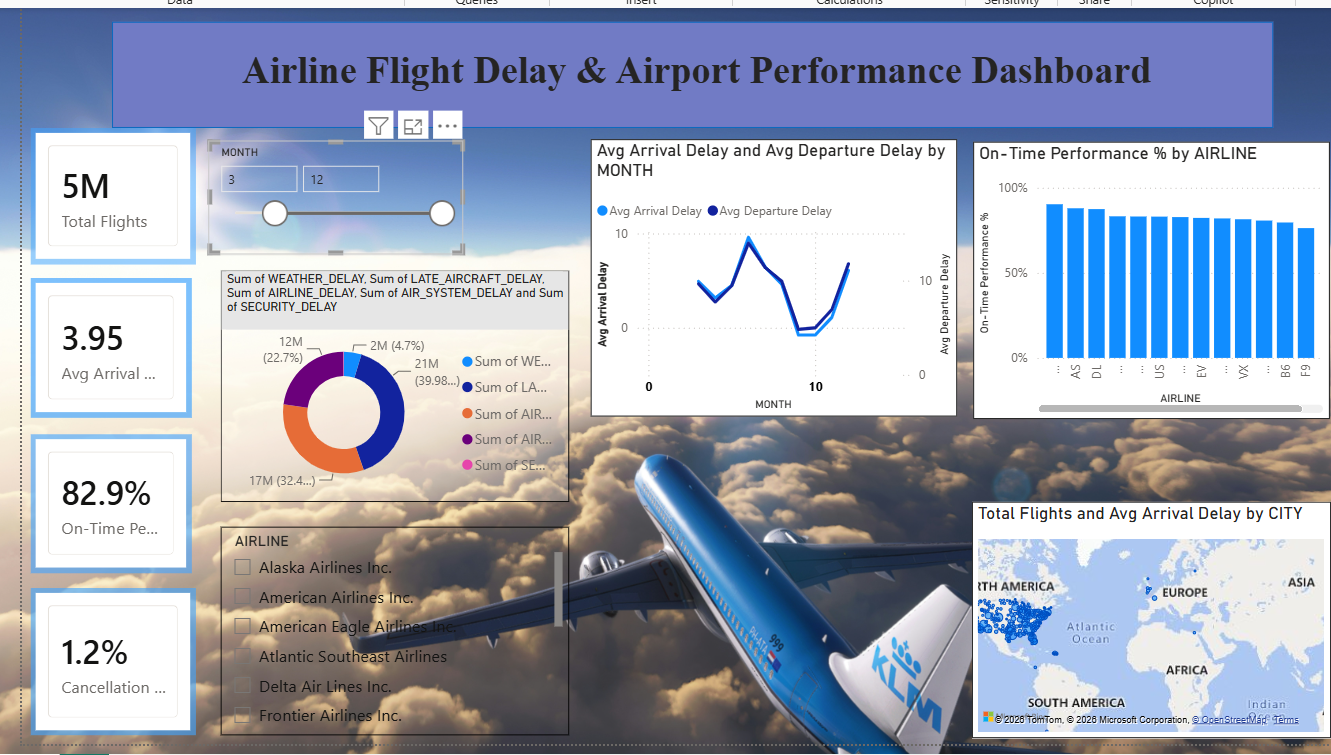

This screenshot's page, from the dashboard's own definition file:
{"tool":"powerbi","page":{"name":"Page 1","canvas":[1280,720],"ordinal":0},"visuals":[{"type":"cardVisual","fields":{"Data":["flights.Total Flights"]},"box":[8.6,117.4,161.4,133.3],"z":0},{"type":"cardVisual","fields":{"Data":["flights.On-Time Performance %"]},"box":[8.6,417,157.7,135.7],"z":1000},{"type":"cardVisual","fields":{"Data":["flights.Avg Arrival Delay"]},"box":[8.6,264.1,157.7,137],"z":2000},{"type":"cardVisual","fields":{"Data":["flights.Cancellation Rate %"]},"box":[8.6,567.4,161.4,144.3],"z":3000},{"type":"columnChart","fields":{"Category":["flights.AIRLINE"],"Y":["flights.On-Time Performance %"]},"box":[930.4,130.4,348.5,271.5],"z":4000},{"type":"map","fields":{"Category":["airports.CITY"],"Size":["flights.Total Flights"]},"box":[929.1,483.5,351,231.1],"z":5000},{"type":"shape","box":[88,13.5,1136,103.9],"z":6000},{"type":"textbox","box":[210.3,34.2,968.5,72.1],"z":7000},{"type":"slicer","fields":{"Values":["airlines.AIRLINE"]},"box":[194.9,507.6,340.5,203.8],"z":8000},{"type":"slicer","fields":{"Values":["flights.MONTH"]},"box":[182.2,129.6,249.5,111.3],"z":9000},{"type":"lineChart","fields":{"Y":["flights.Avg Arrival Delay"],"Y2":["flights.Avg Departure Delay"],"Category":["flights.MONTH"]},"box":[557,127.8,358.3,271.5],"z":10000},{"type":"donutChart","fields":{"Y":["Sum(flights.WEATHER_DELAY)","Sum(flights.LATE_AIRCRAFT_DELAY)","Sum(flights.AIRLINE_DELAY)","Sum(flights.AIR_SYSTEM_DELAY)","Sum(flights.SECURITY_DELAY)"]},"box":[194.9,257,340.5,226.6],"z":11000}]}

Visuals, with their boxes on the page's 1280x720 design canvas (x1, y1, x2, y2). These are canvas units, not pixel positions in the 1331x755 screenshot, which may show the page scaled, cropped or inside an application window:
cardVisual - flights.Total Flights: {"left": 9, "top": 117, "right": 170, "bottom": 251}
cardVisual - flights.On-Time Performance %: {"left": 9, "top": 417, "right": 166, "bottom": 553}
cardVisual - flights.Avg Arrival Delay: {"left": 9, "top": 264, "right": 166, "bottom": 401}
cardVisual - flights.Cancellation Rate %: {"left": 9, "top": 567, "right": 170, "bottom": 712}
columnChart - flights.AIRLINE x flights.On-Time Performance %: {"left": 930, "top": 130, "right": 1279, "bottom": 402}
map - airports.CITY x flights.Total Flights: {"left": 929, "top": 484, "right": 1280, "bottom": 715}
shape: {"left": 88, "top": 14, "right": 1224, "bottom": 117}
textbox: {"left": 210, "top": 34, "right": 1179, "bottom": 106}
slicer - airlines.AIRLINE: {"left": 195, "top": 508, "right": 535, "bottom": 711}
slicer - flights.MONTH: {"left": 182, "top": 130, "right": 432, "bottom": 241}
lineChart - flights.Avg Arrival Delay x flights.Avg Departure Delay: {"left": 557, "top": 128, "right": 915, "bottom": 399}
donutChart - Sum(flights.WEATHER_DELAY) x Sum(flights.LATE_AIRCRAFT_DELAY): {"left": 195, "top": 257, "right": 535, "bottom": 484}
